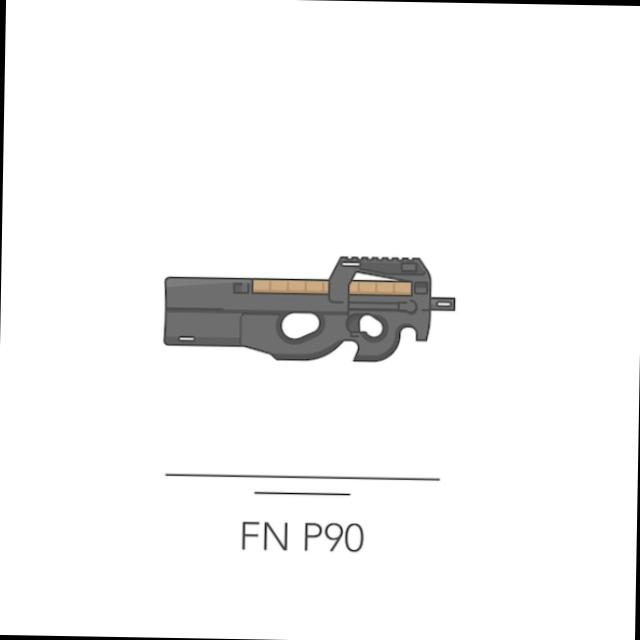Gun: (140, 243, 470, 434)
